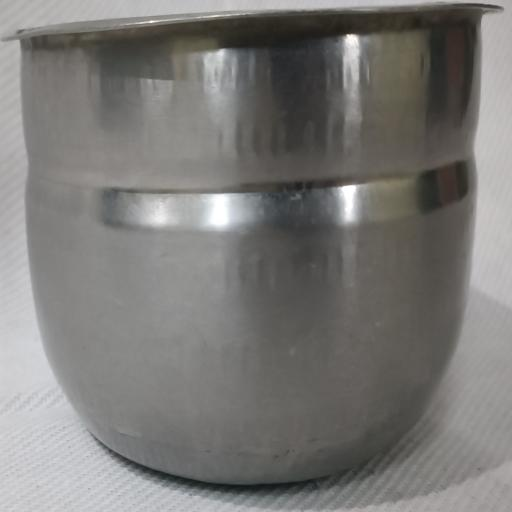vessel: (6, 4, 501, 484)
